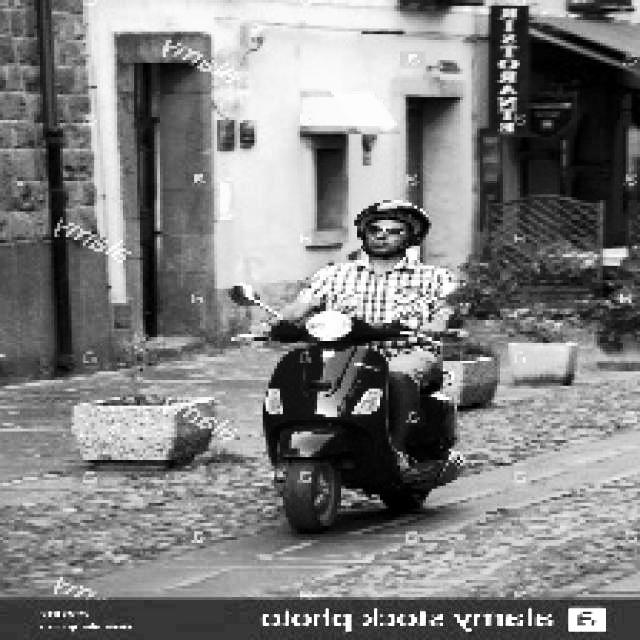Bike: (239, 307, 447, 534)
